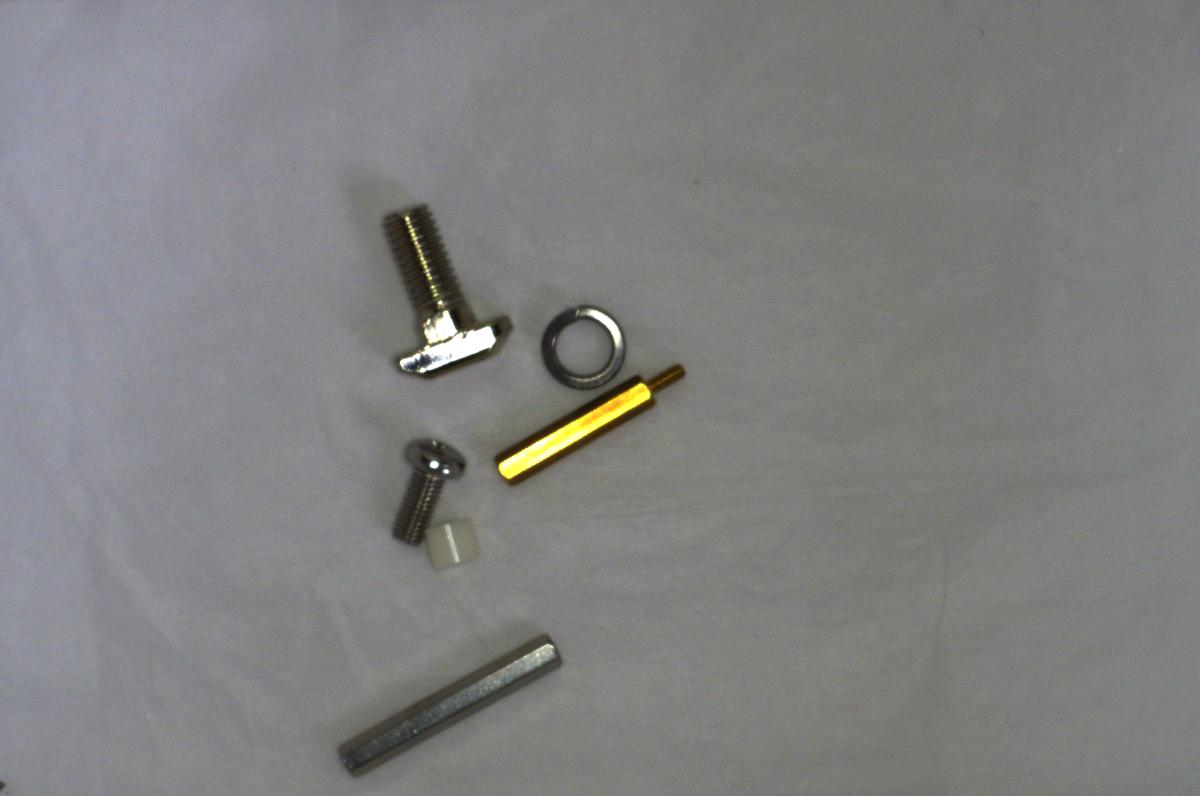Double hexagonal column: (326, 603, 571, 772)
Hexagon pillar: (486, 354, 693, 495)
Plastic cushion pillar: (417, 513, 488, 573)
Round head screw: (379, 433, 472, 546)
Spring washer: (531, 293, 630, 395)
